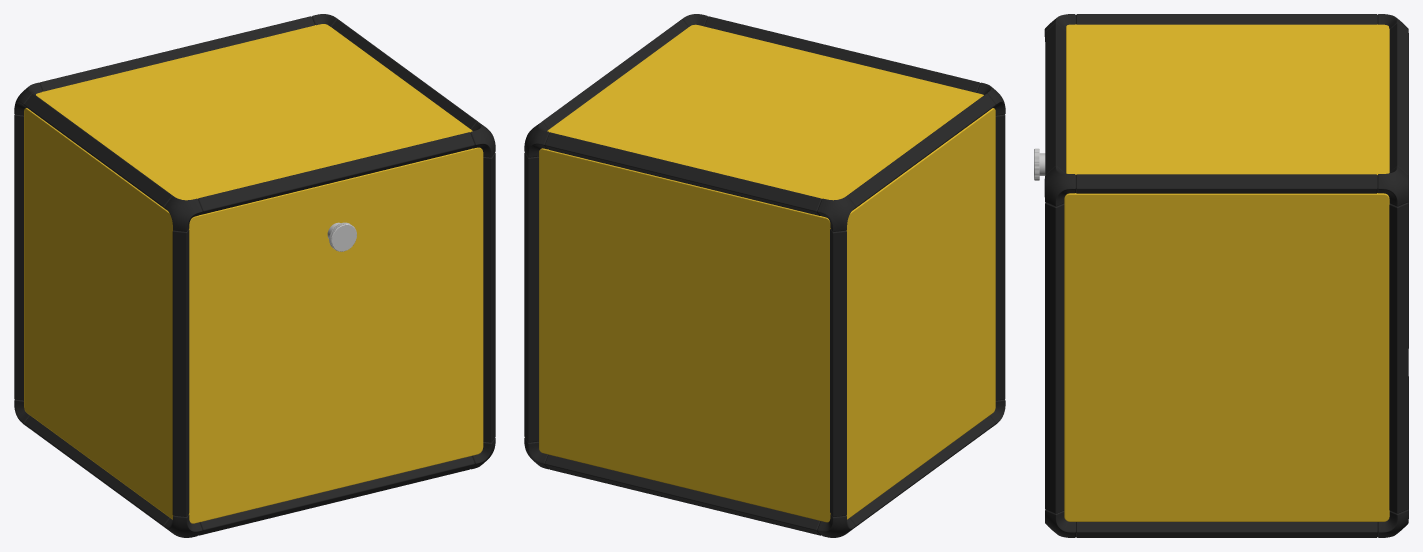
3 renders of one model, left to right at view 1: azimuth 30°, elevation 25°; view 2: azimuth 150°, elevation 25°; view 3: azimuth 270°, elevation 25°, orthographic. The views are drawn at different scales.
Visible parts, largest first — view 1: 420x374x420; view 2: 420x374x420; view 3: 420x374x420.
Boxes of the visible parts, box(x1,y1,x2,y2) form: 420x374x420: box(14, 14, 495, 537); 420x374x420: box(524, 14, 1005, 537); 420x374x420: box(1034, 14, 1408, 537).
Size of the model in its own units: 0.4977 by 0.4976 by 0.4646.
